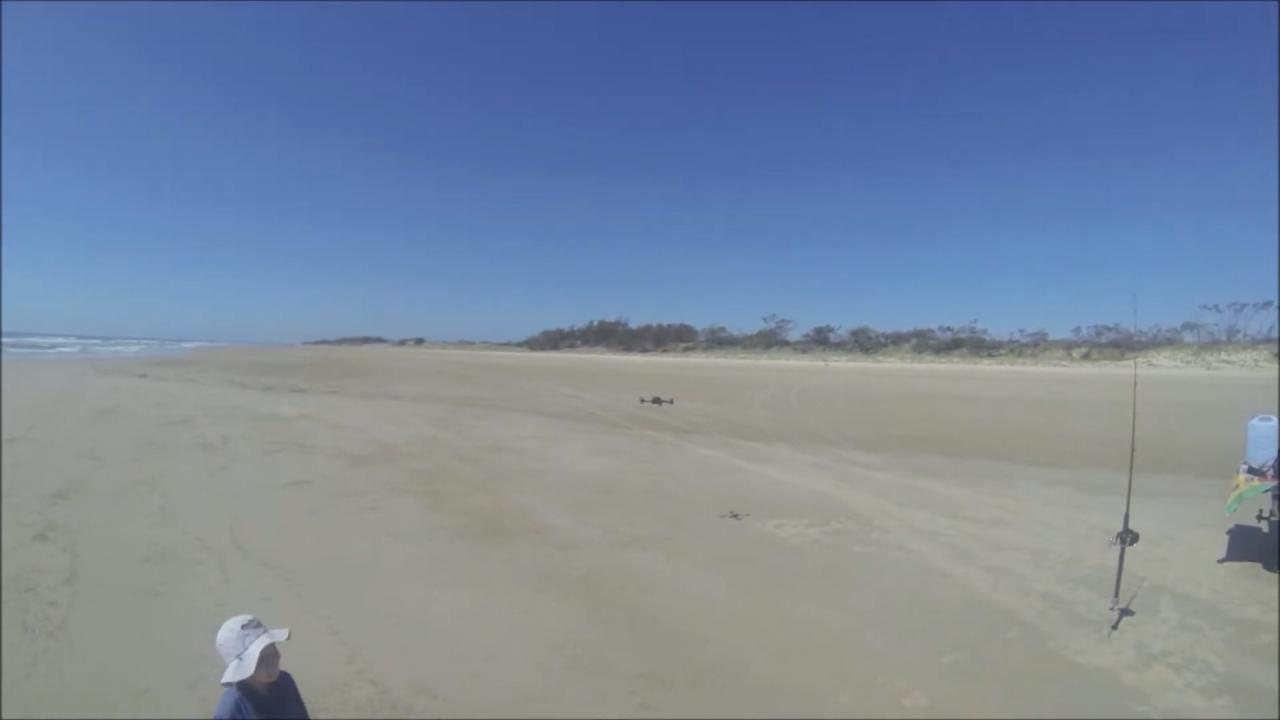Drone: (633, 384, 683, 417)
